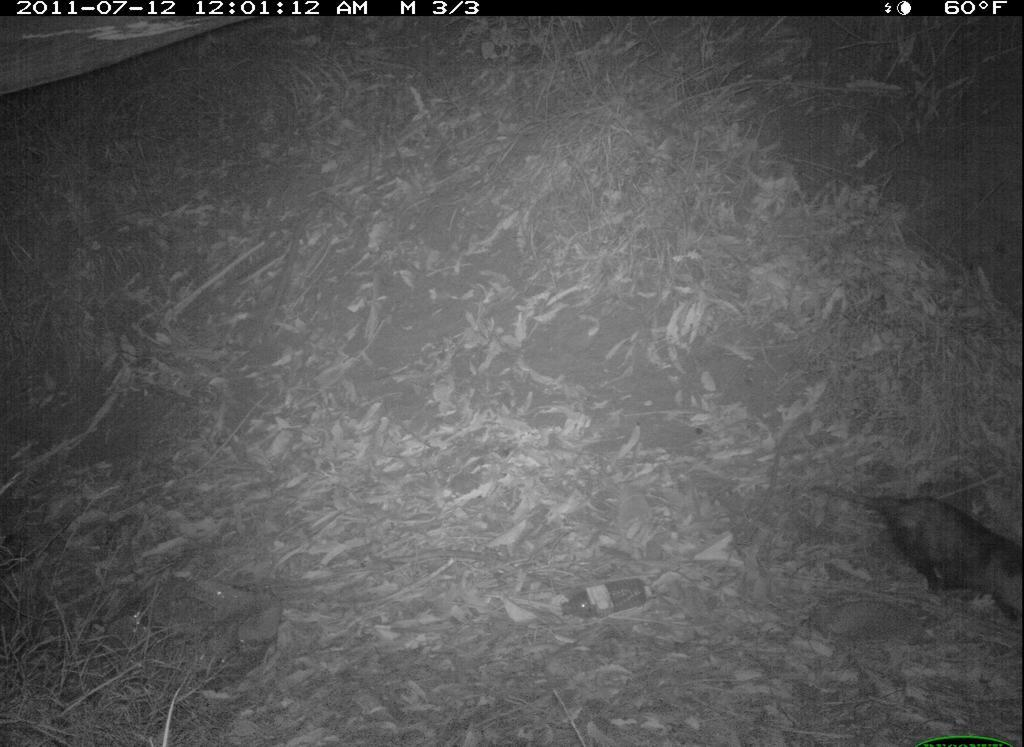opossum: (818, 475, 1022, 626)
